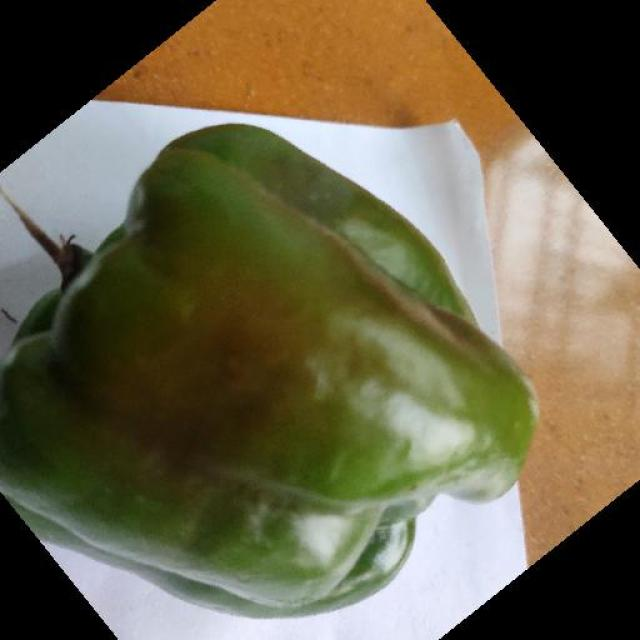Stale_Capsicum: (0, 252, 594, 569)
